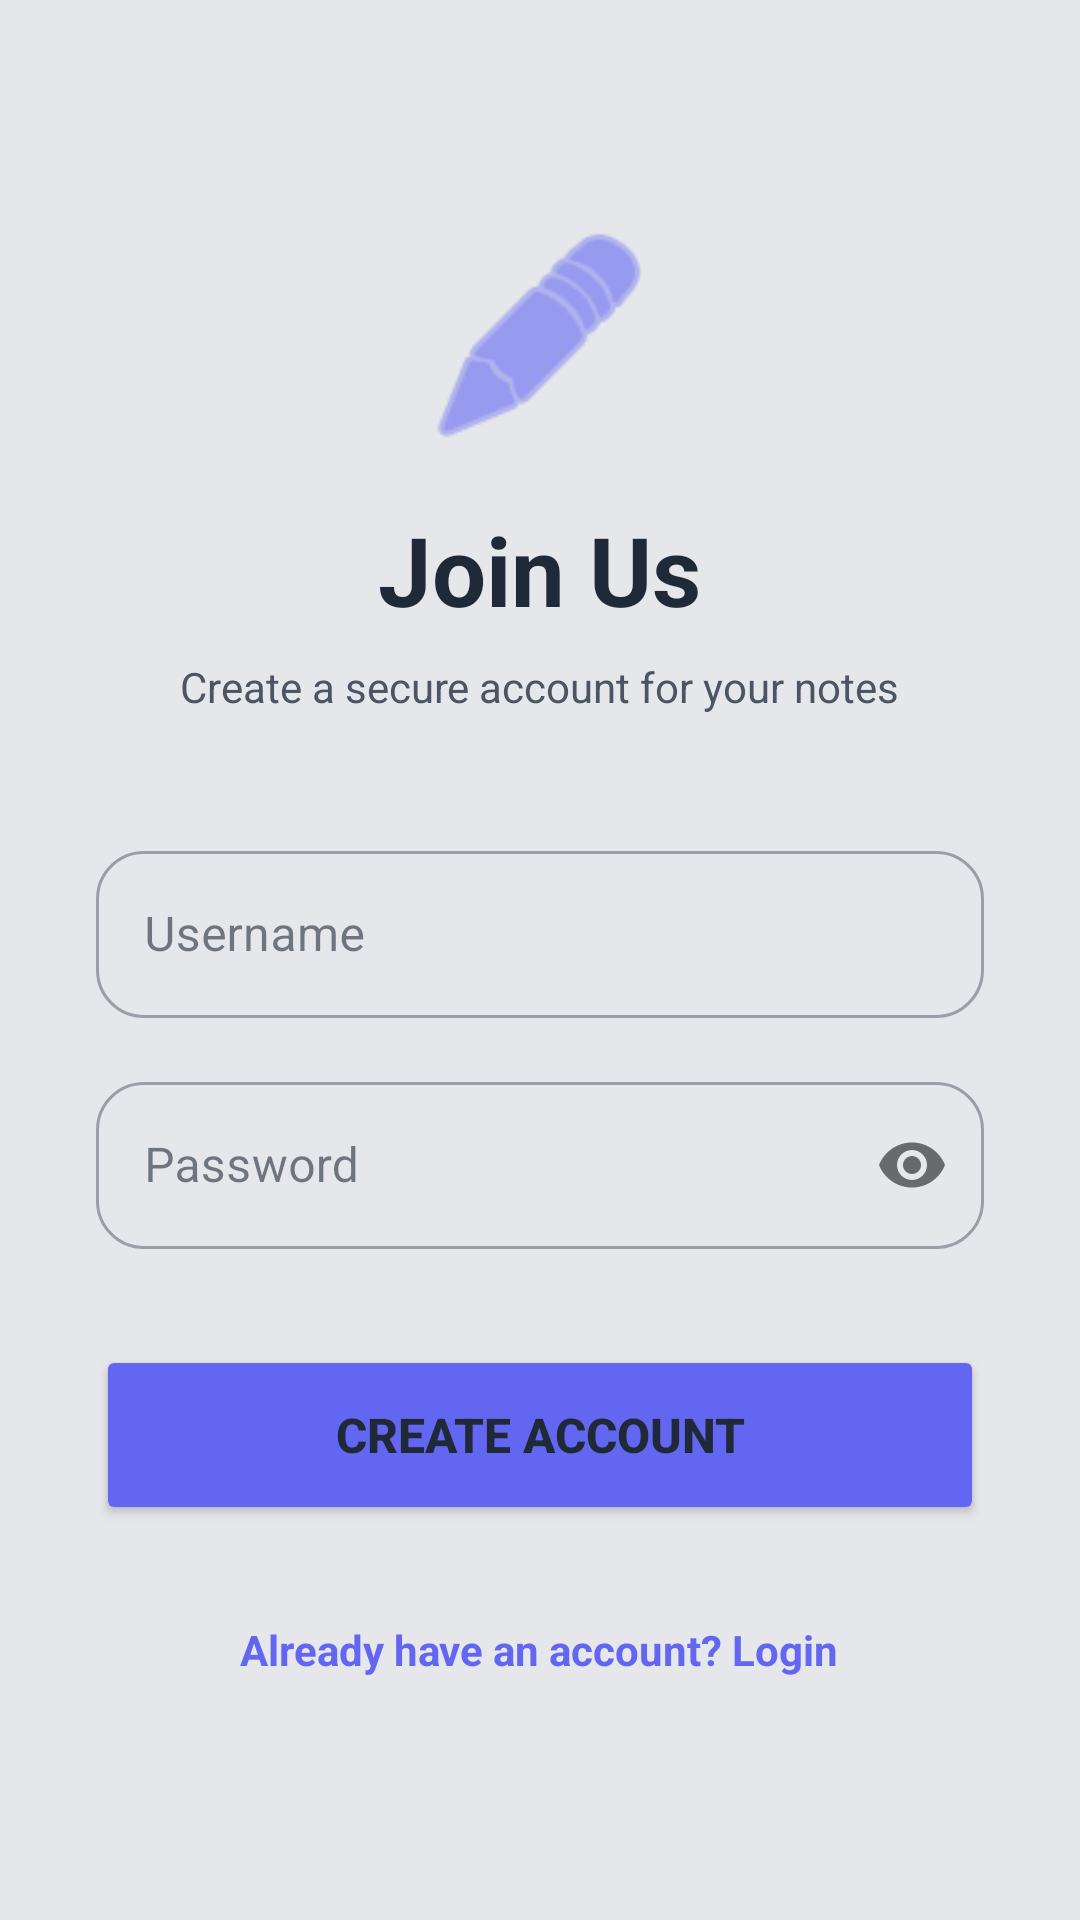

Icons on this 1080 × 1920 Android screen, each with the point to tap as (x,y):
edit: (539,335)
